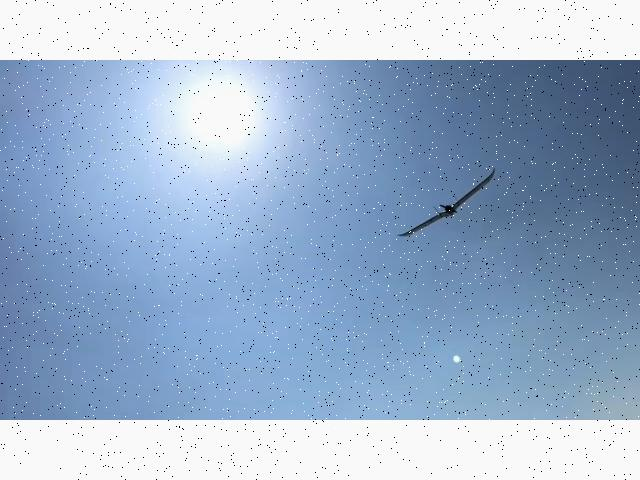Anti-Drone: (396, 166, 496, 236)
